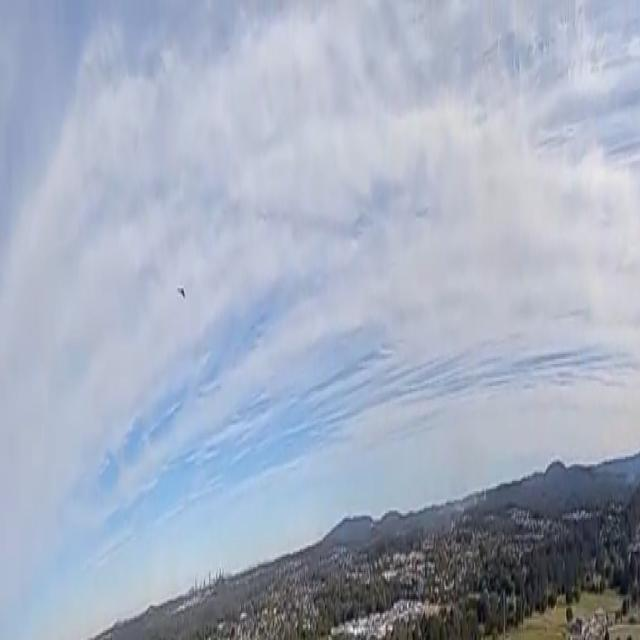iha: (180, 284, 183, 303)
